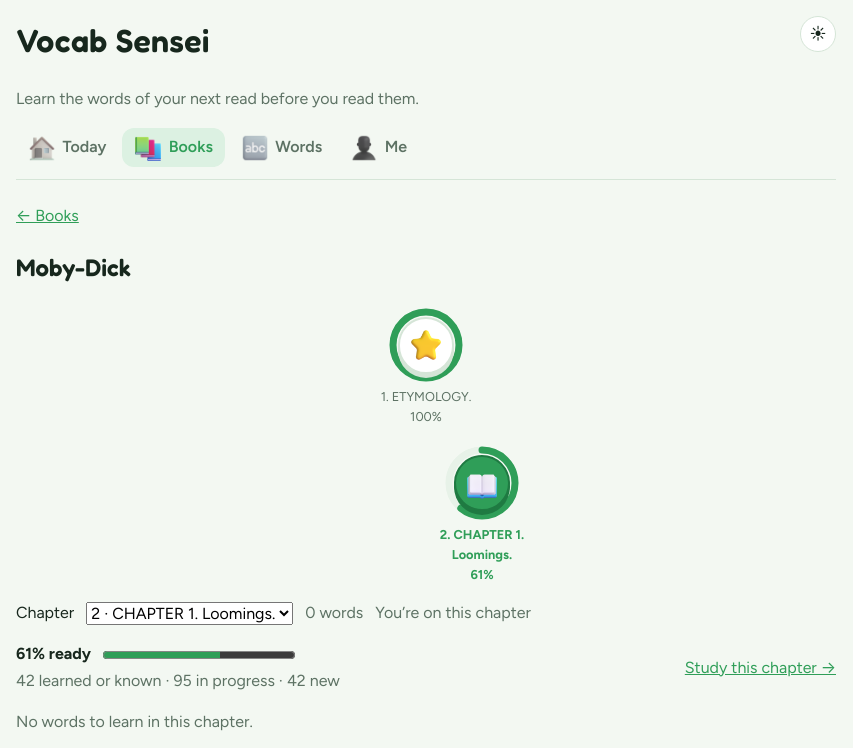
Test case: chapter path › shows each chapter as a ring filled by its readiness; tapping one picks it
This screenshot has width=853, height=748.
Click the button with aria-label "Chapter 1, ETYMOLOGY., 100% ready": (426, 367) 375,306 -> 477,428
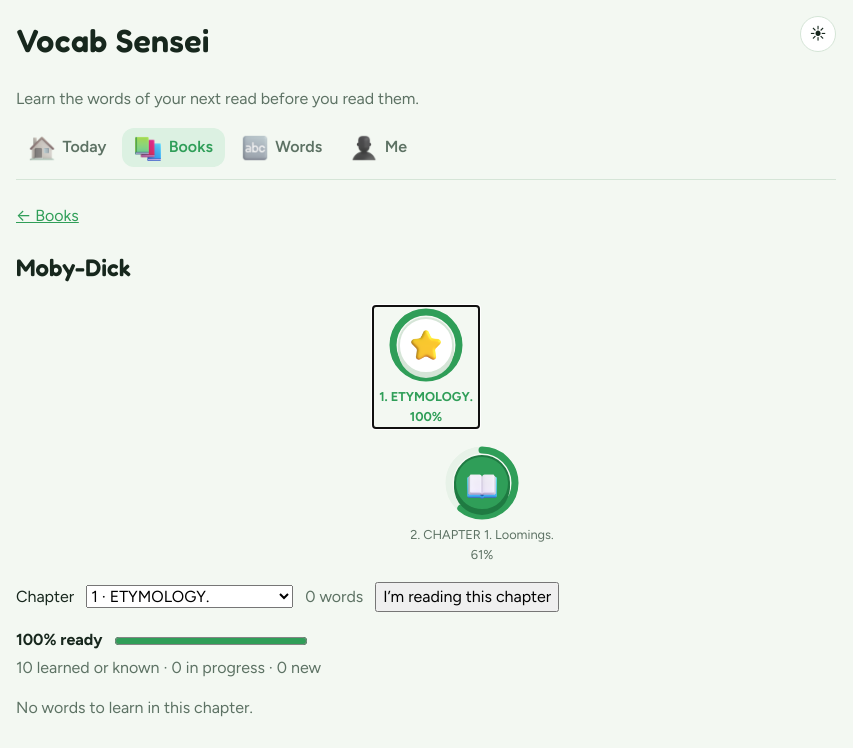
Expected: the dropdown labelled "Chapter" shows "1 · ETYMOLOGY.", 86,586 -> 293,608
